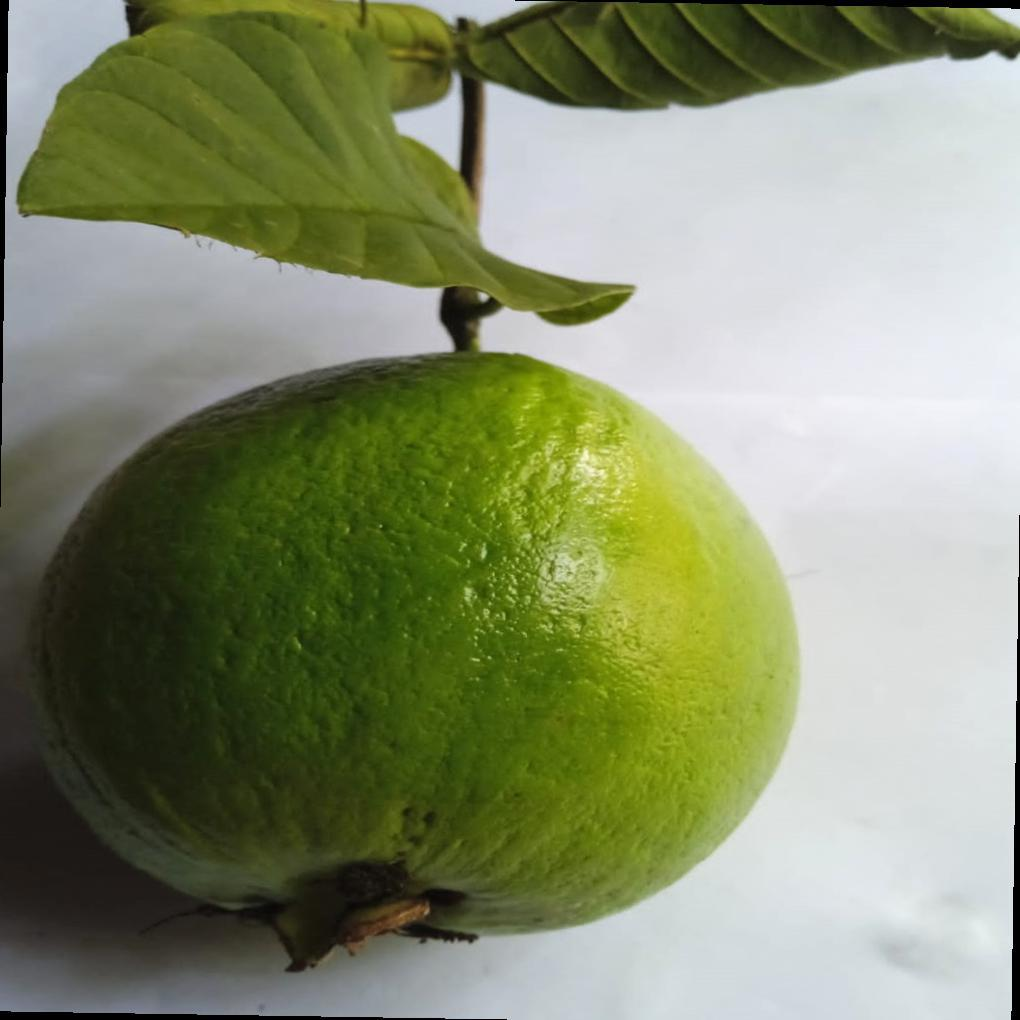FreshGuava: (29, 351, 802, 973)
